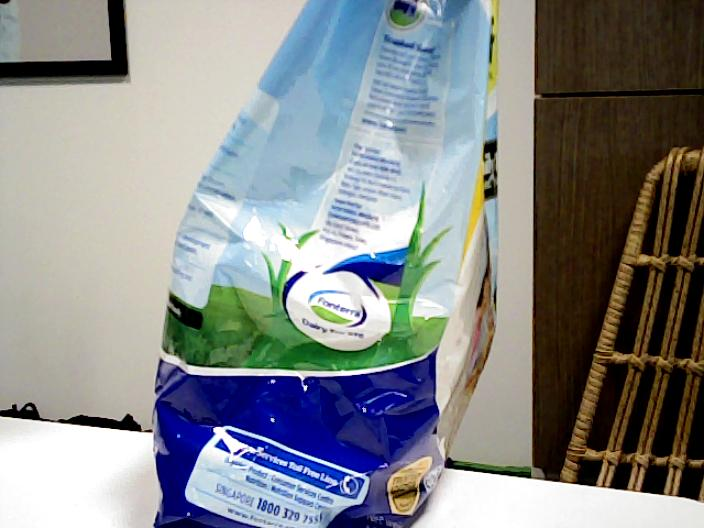Adult_Milk_1000-1999g_Halal_NonHealthy: (151, 1, 495, 528)
